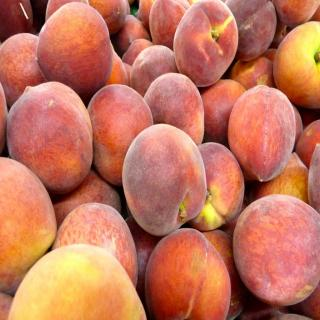Peach: (0, 1, 320, 320), (172, 3, 240, 85)
